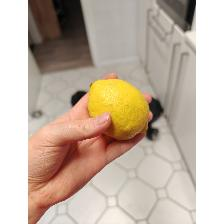Zitrone: (88, 78, 150, 140)
